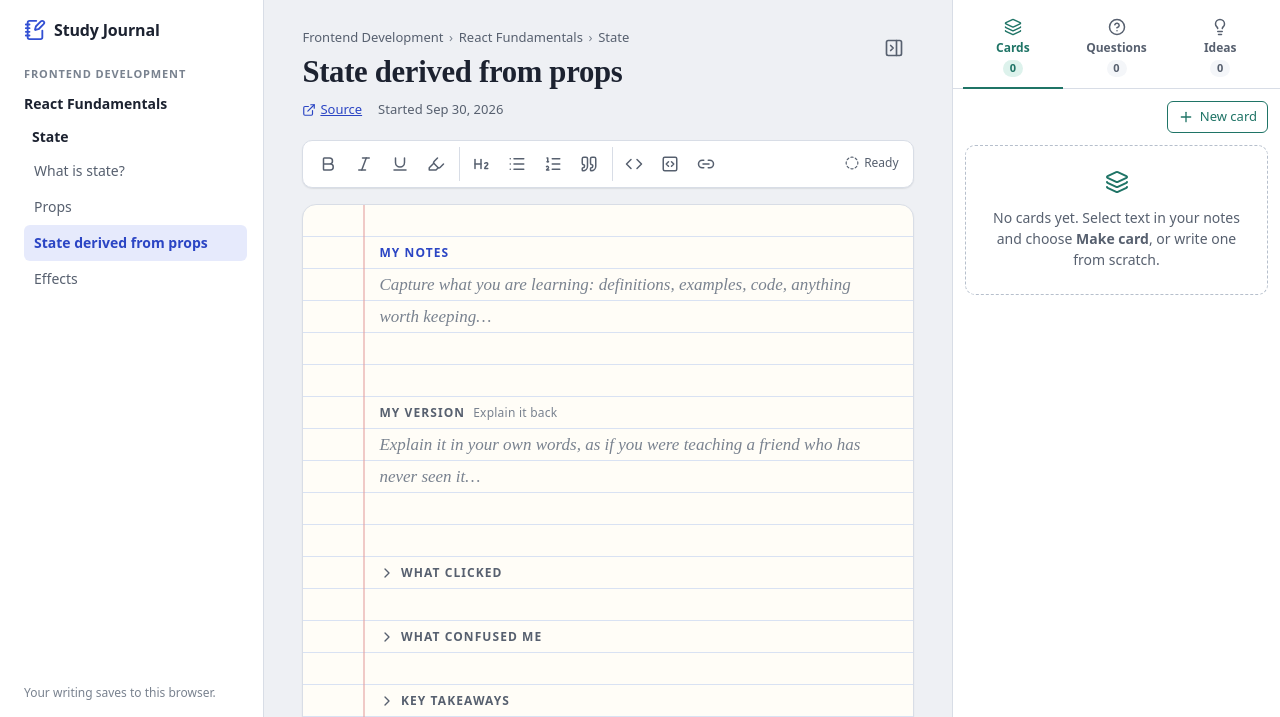
Test: JournalPage › keeps reflection sections compact until opened
Click the button "What clicked" at coordinates (441, 573), box [375, 557, 507, 589]
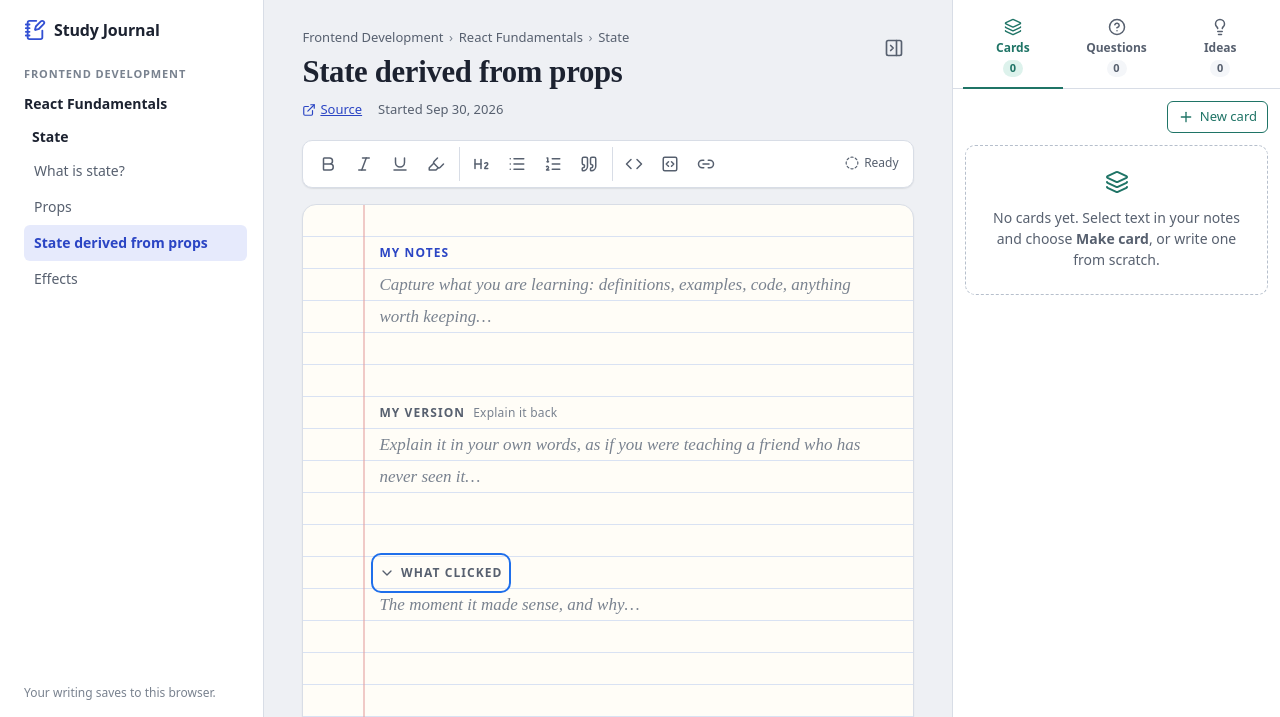
Now the button "What clicked" is expanded, box [375, 557, 507, 589]
Now the 3rd field named "What clicked" is shown, box [379, 589, 873, 685]
